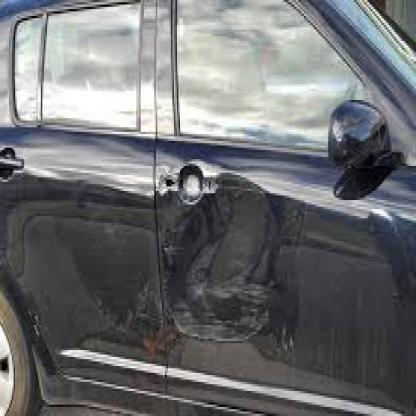dent: (164, 180, 290, 343), (82, 280, 156, 346)
